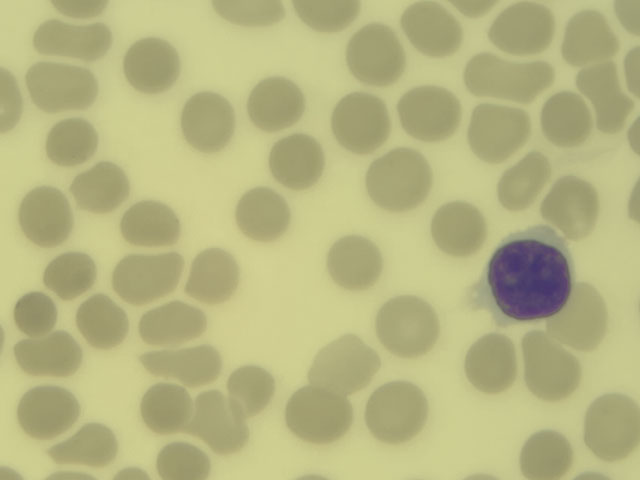RBC: (287, 384, 356, 444), (23, 16, 116, 60), (367, 148, 433, 208), (302, 337, 377, 389), (345, 23, 409, 83), (380, 294, 441, 356), (523, 332, 581, 397), (463, 102, 531, 157), (584, 62, 632, 138), (17, 188, 76, 248), (27, 62, 99, 111), (468, 57, 554, 98), (334, 91, 388, 156), (190, 383, 244, 448), (464, 328, 517, 394), (402, 88, 463, 145), (367, 384, 424, 445), (553, 287, 605, 351), (113, 251, 177, 303), (489, 1, 552, 51), (134, 344, 226, 378), (139, 301, 203, 345), (121, 38, 178, 87), (238, 190, 292, 241), (540, 93, 594, 144), (562, 11, 616, 62), (50, 114, 104, 165), (244, 80, 298, 131), (181, 92, 235, 143), (548, 180, 602, 231), (430, 203, 484, 254), (19, 384, 73, 435), (142, 380, 196, 431), (18, 325, 72, 376), (11, 283, 65, 334), (77, 291, 131, 342), (48, 244, 102, 295), (185, 247, 239, 298), (122, 191, 176, 242), (75, 161, 129, 212), (331, 235, 385, 286), (521, 421, 575, 472), (272, 137, 326, 188), (405, 1, 459, 51), (501, 153, 544, 213), (54, 422, 120, 460), (586, 389, 629, 445), (223, 364, 272, 408), (214, 1, 286, 29), (293, 1, 364, 29), (159, 442, 203, 479), (1, 71, 22, 131)
WBC: (485, 231, 570, 324)
